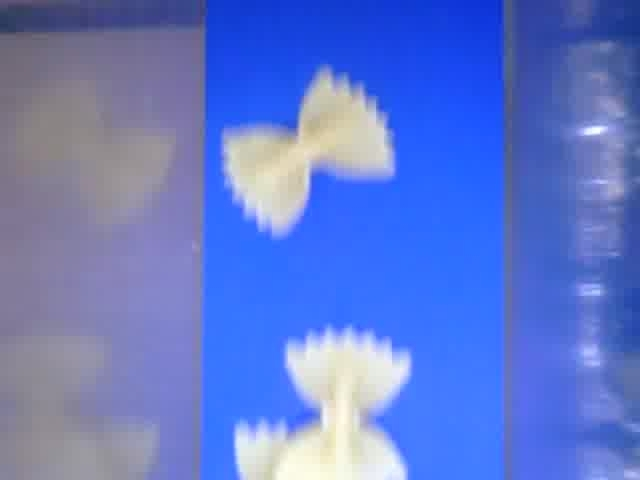farfalle: (221, 68, 398, 240), (277, 330, 413, 480), (234, 420, 297, 480)
